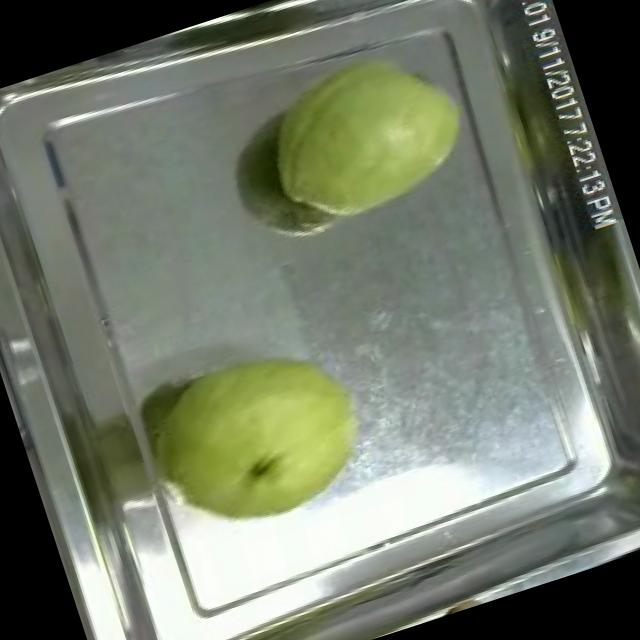Fruit: (232, 1, 494, 248), (131, 320, 396, 558)
